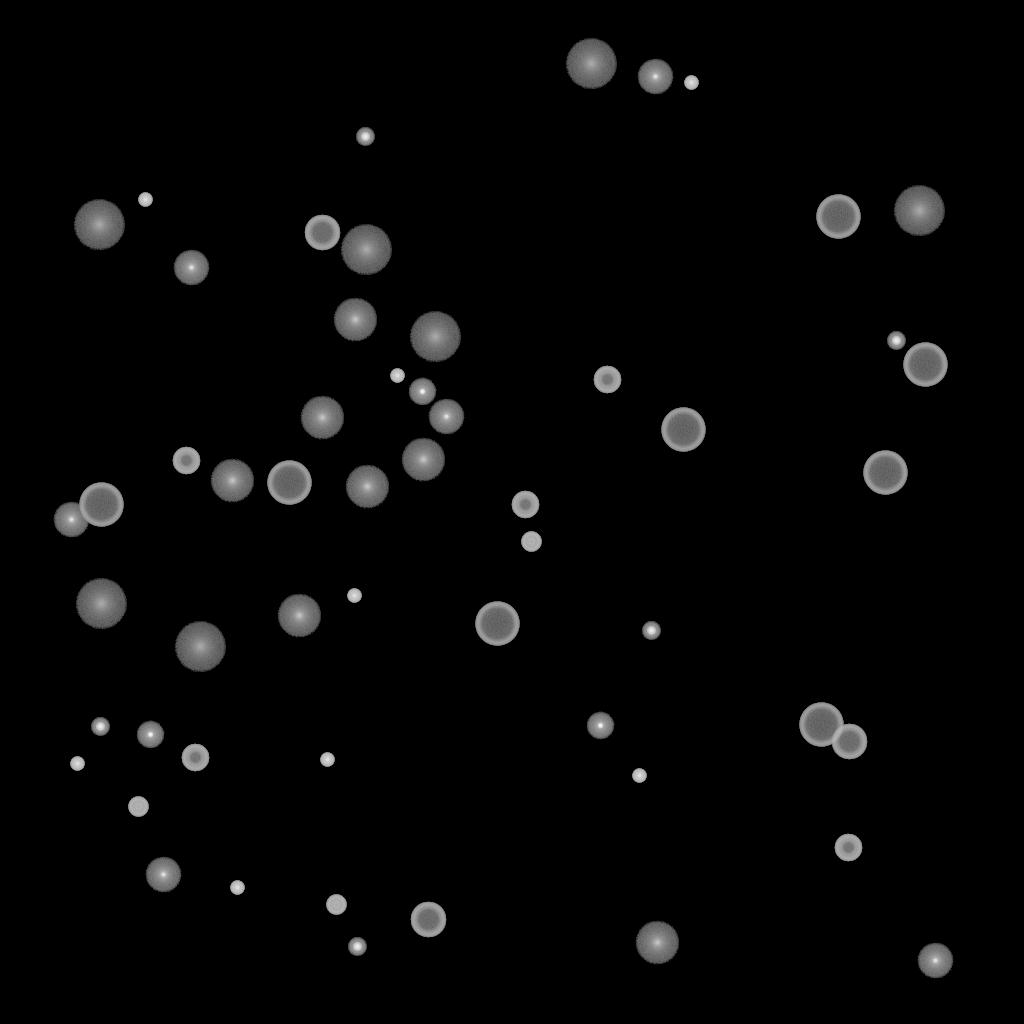depth:-10: (408, 378, 436, 406), (586, 712, 614, 740), (136, 721, 164, 749)
depth:-20: (356, 128, 374, 146), (348, 938, 366, 956), (91, 718, 109, 736), (642, 622, 660, 640), (887, 332, 905, 350)
depth:-30: (347, 589, 361, 603), (390, 369, 404, 383), (230, 881, 244, 895), (138, 193, 152, 207), (320, 753, 334, 767), (684, 76, 698, 90), (70, 757, 84, 771), (632, 769, 646, 783)
depth:-40: (128, 797, 148, 817), (521, 532, 541, 552), (326, 895, 346, 915)
depth:-50: (172, 447, 200, 475), (181, 744, 209, 772), (834, 834, 862, 862), (511, 491, 539, 519), (593, 366, 621, 394)
depth:-60: (831, 724, 867, 760), (410, 902, 446, 938), (304, 215, 340, 251)
depth:-70: (79, 483, 123, 527), (799, 703, 843, 747), (816, 195, 860, 239), (475, 602, 519, 646), (267, 461, 311, 505), (661, 408, 705, 452), (903, 343, 947, 387), (863, 451, 907, 495)
depth:0: (145, 857, 181, 893), (637, 59, 673, 95), (53, 502, 89, 538), (428, 399, 464, 435), (917, 943, 953, 979), (173, 250, 209, 286)
depth:10: (345, 465, 389, 509), (333, 298, 377, 342), (277, 594, 321, 638), (210, 459, 254, 503), (635, 921, 679, 965), (300, 396, 344, 440), (401, 438, 445, 482)
depth:20: (75, 579, 127, 629), (340, 225, 392, 275), (409, 312, 461, 362), (565, 39, 617, 89), (174, 622, 226, 672), (73, 200, 125, 250), (893, 186, 945, 236)
